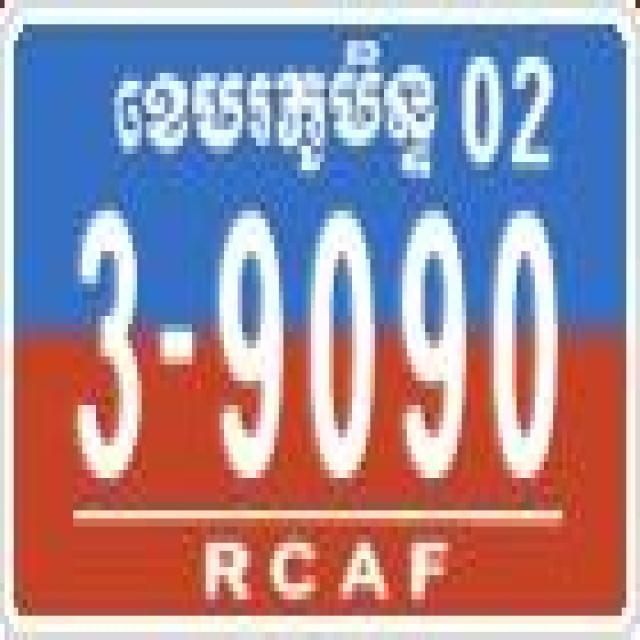RCAF: (110, 33, 440, 194)
